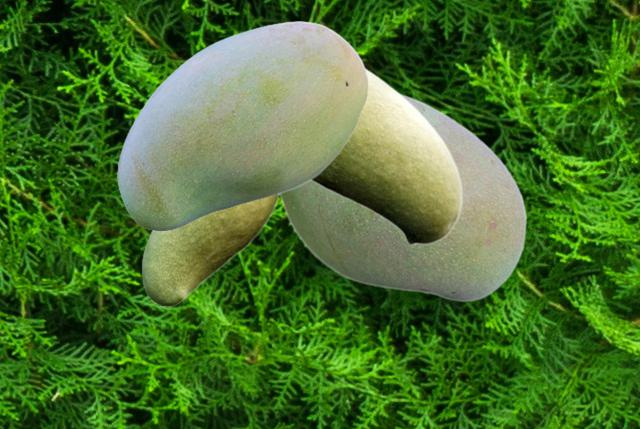green_mango: (117, 21, 368, 229), (280, 93, 526, 301), (312, 67, 462, 245), (141, 195, 279, 305)
